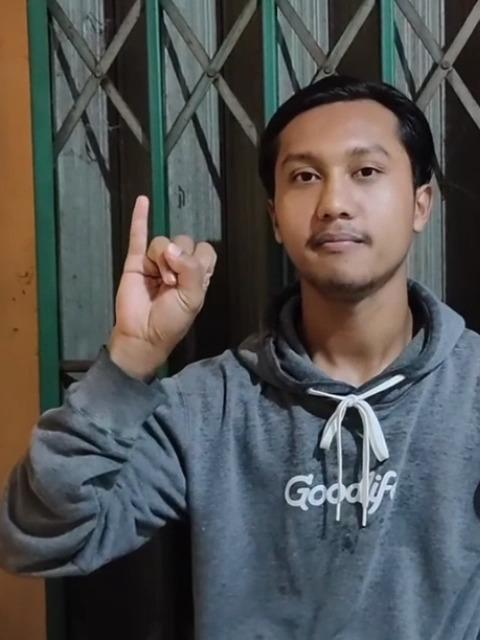I: (105, 192, 215, 348)
